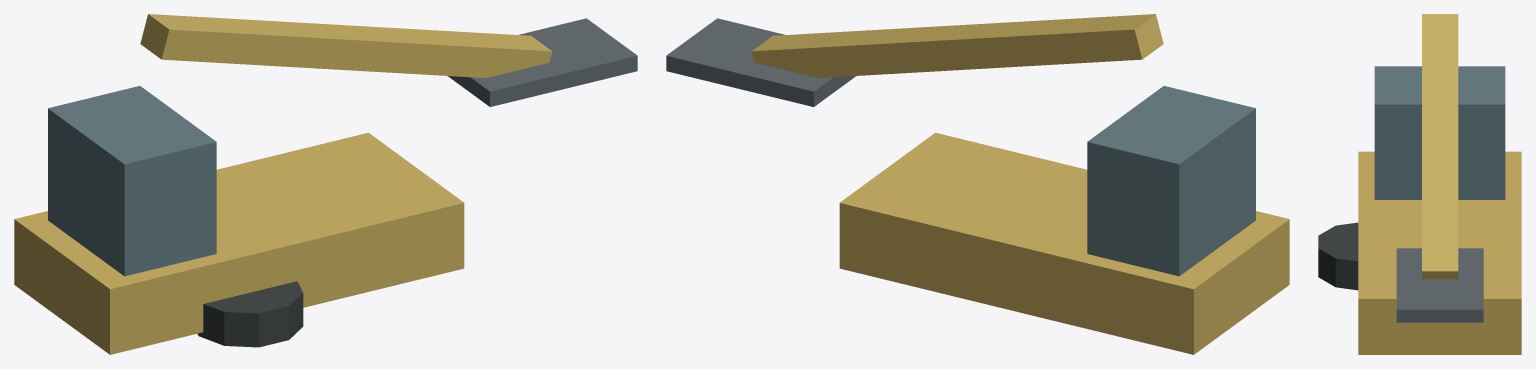
File: reach-stacker-lod2.glb
3 renders of one model, left to right at view 1: azimuth 30°, elevation 25°; view 2: azimuth 150°, elevation 25°; view 3: azimuth 270°, elevation 25°, orthographic. The views are drawn at different scales.
Visible parts, largest first — view 1: body, cab, boom, spreader, wheel; view 2: body, cab, boom, spreader; view 3: body, cab, boom, spreader, wheel.
Boxes of the visible parts, x1,y1,x2,y2 form: body: [14, 132, 464, 354]; cab: [48, 86, 216, 276]; boom: [140, 14, 552, 77]; spreader: [448, 18, 637, 106]; wheel: [197, 281, 303, 347]; body: [839, 132, 1289, 354]; cab: [1087, 86, 1255, 276]; boom: [751, 14, 1163, 77]; spreader: [666, 18, 855, 106]; body: [1358, 151, 1521, 354]; cab: [1374, 66, 1505, 199]; boom: [1422, 14, 1458, 279]; spreader: [1396, 248, 1483, 322]; wheel: [1318, 222, 1358, 290].
Bounding box in the file's own units: 7.45 × 3.63 × 2.8.
